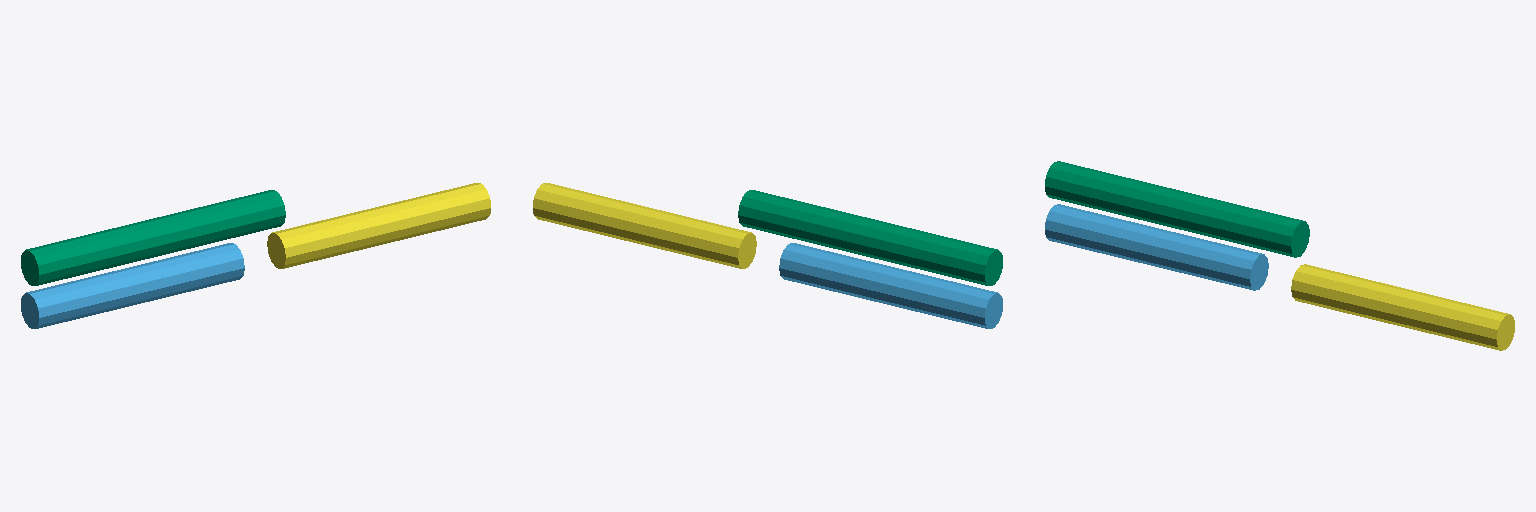
The robot description file, URDF, robot "tree3":
<?xml version="1.0"?>
<!-- Synthetic 3-link planar arm for tree self-collision tests. Visuals: one CAD-style rod STL in millimetres,
     scaled per link (non-uniform) and referenced by a package path that only resolves by its bare file name.
     Collisions: coarse boxes (base only). arm2 folds back over base. -->
<robot name="tree3">
  <link name="world"/>
  <link name="base">
    <visual><geometry><mesh filename="package://tree3_description/meshes/rod.stl" scale="0.00025 0.001 0.001"/></geometry></visual>
    <collision><origin xyz="0.125 0 0"/><geometry><box size="0.25 0.04 0.04"/></geometry></collision>
  </link>
  <link name="arm1">
    <visual><geometry><mesh filename="package://tree3_description/meshes/rod.stl" scale="0.0003 0.001 0.001"/></geometry></visual>
  </link>
  <link name="arm2">
    <visual><geometry><mesh filename="package://tree3_description/meshes/rod.stl" scale="0.00025 0.001 0.001"/></geometry></visual>
  </link>
  <joint name="world_base" type="fixed"><parent link="world"/><child link="base"/></joint>
  <joint name="j1" type="revolute">
    <parent link="base"/><child link="arm1"/><origin xyz="0 0 0.05"/><axis xyz="0 0 1"/>
    <limit lower="-3.15" upper="3.15" velocity="1"/>
  </joint>
  <joint name="j2" type="revolute">
    <parent link="arm1"/><child link="arm2"/><origin xyz="0.3 0 -0.05"/><axis xyz="0 0 1"/>
    <limit lower="-3.15" upper="3.15" velocity="1"/>
  </joint>
</robot>

--- Render facts (derived) ---
The picture shows the robot from 3 angles, left to right: view 1: azimuth 30°, elevation 25°; view 2: azimuth 150°, elevation 25°; view 3: azimuth 330°, elevation 25°; orthographic projection.
Model tree3 with 4 links and 3 joints (2 revolute, 1 fixed), rooted at world, posed every joint at zero.
Visible links, largest first — view 1: arm1, base, arm2; view 2: arm1, base, arm2; view 3: arm1, arm2, base.
Boxes of the visible links, x1,y1,x2,y2 form: arm1: (21,190,285,285); base: (21,243,244,328); arm2: (267,183,490,268); arm1: (738,190,1002,285); base: (779,243,1002,328); arm2: (533,183,756,268); arm1: (1045,161,1309,257); arm2: (1291,264,1514,350); base: (1045,204,1268,290).
Size in the robot's own frame: 0.55 by 0.04 by 0.09 metres.
Meshes: 1 distinct files referenced, 3 mesh visuals loaded (1 ASCII STL).
